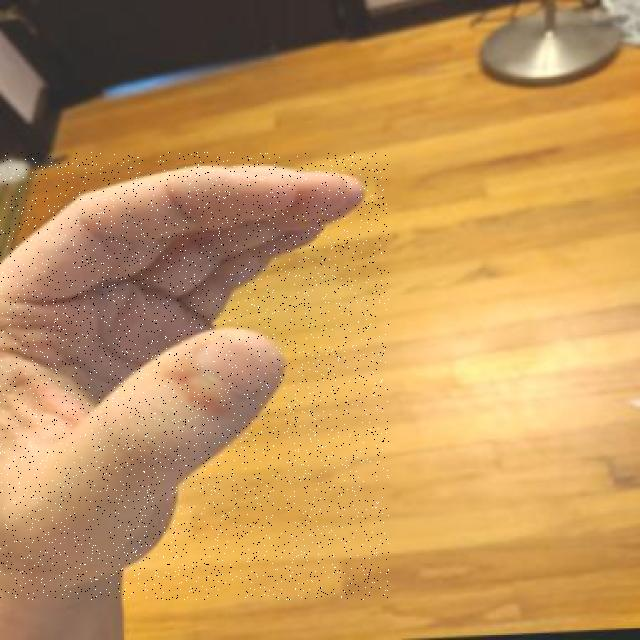C: (0, 152, 389, 600)
